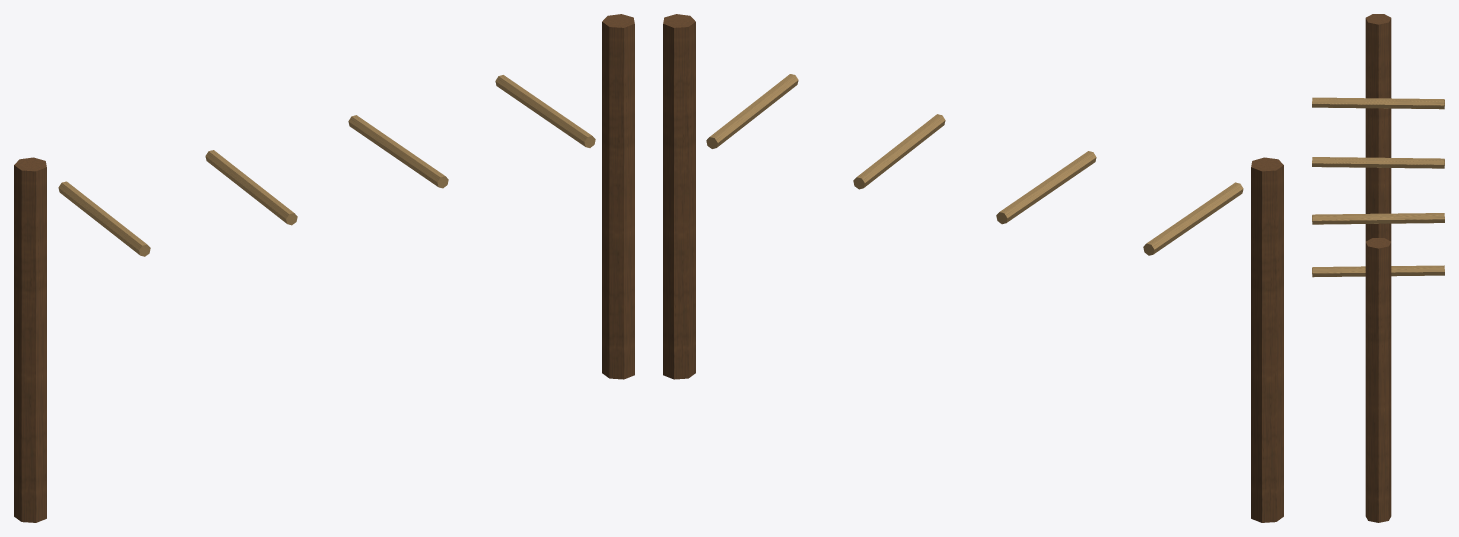
File: en-024_camp_boundary_rope_set__taut.obj
3 views of the same model, side by side, from view 1: azimuth 30°, elevation 25°; view 2: azimuth 150°, elevation 25°; view 3: azimuth 270°, elevation 25° (orthographic). The views are drawn at different scales.
Parts seen in each view (by area): view 1: en-024_camp_boundary_rope_set__taut; view 2: en-024_camp_boundary_rope_set__taut; view 3: en-024_camp_boundary_rope_set__taut.
Part boxes in pixels (x1,y1,x2,y2): en-024_camp_boundary_rope_set__taut: (14,14,634,522); en-024_camp_boundary_rope_set__taut: (663,14,1283,522); en-024_camp_boundary_rope_set__taut: (1312,14,1444,522).
Bounding box in the file's own units: 1.47 × 0.8 × 0.3508.
2 materials, 2 textured.
